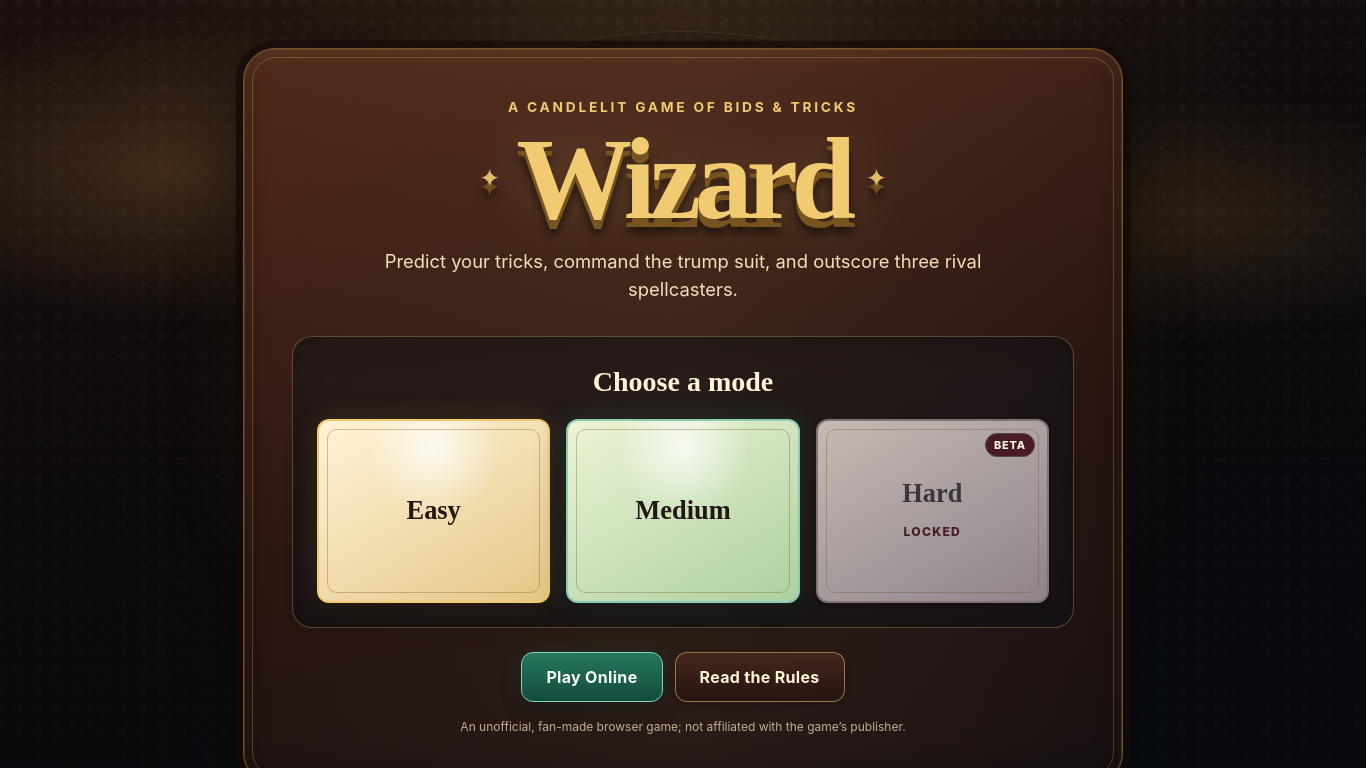
Test: HomeScreen › opens the rules from home, closes with Escape, and restores focus
The width and height of the screenshot is (1366, 768).
Click the button "Read the Rules" at (760, 677), box 674,652 -> 845,702
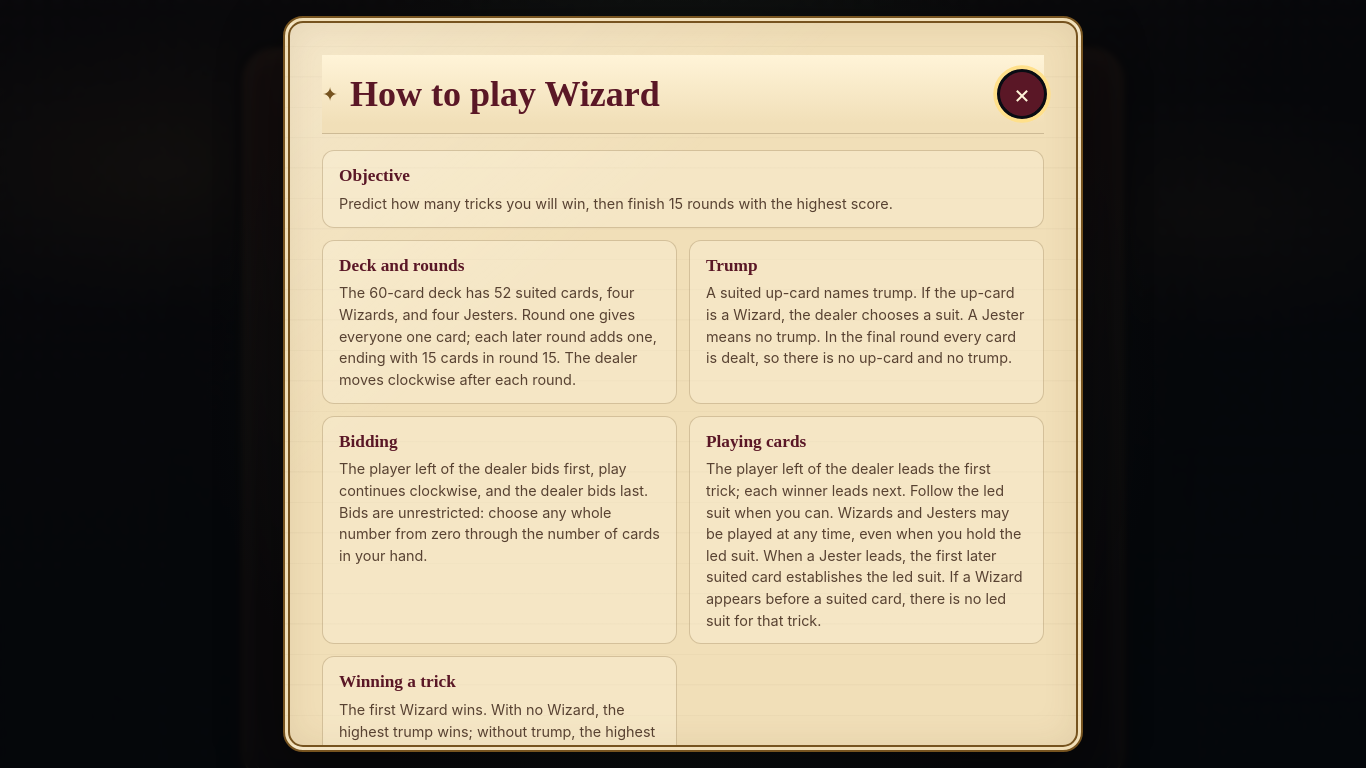
Now the dialog "How to play Wizard" shows "60-card deck", box 339,284 -> 657,388
Press Escape in the dialog "How to play Wizard", box 283,16 -> 1083,752
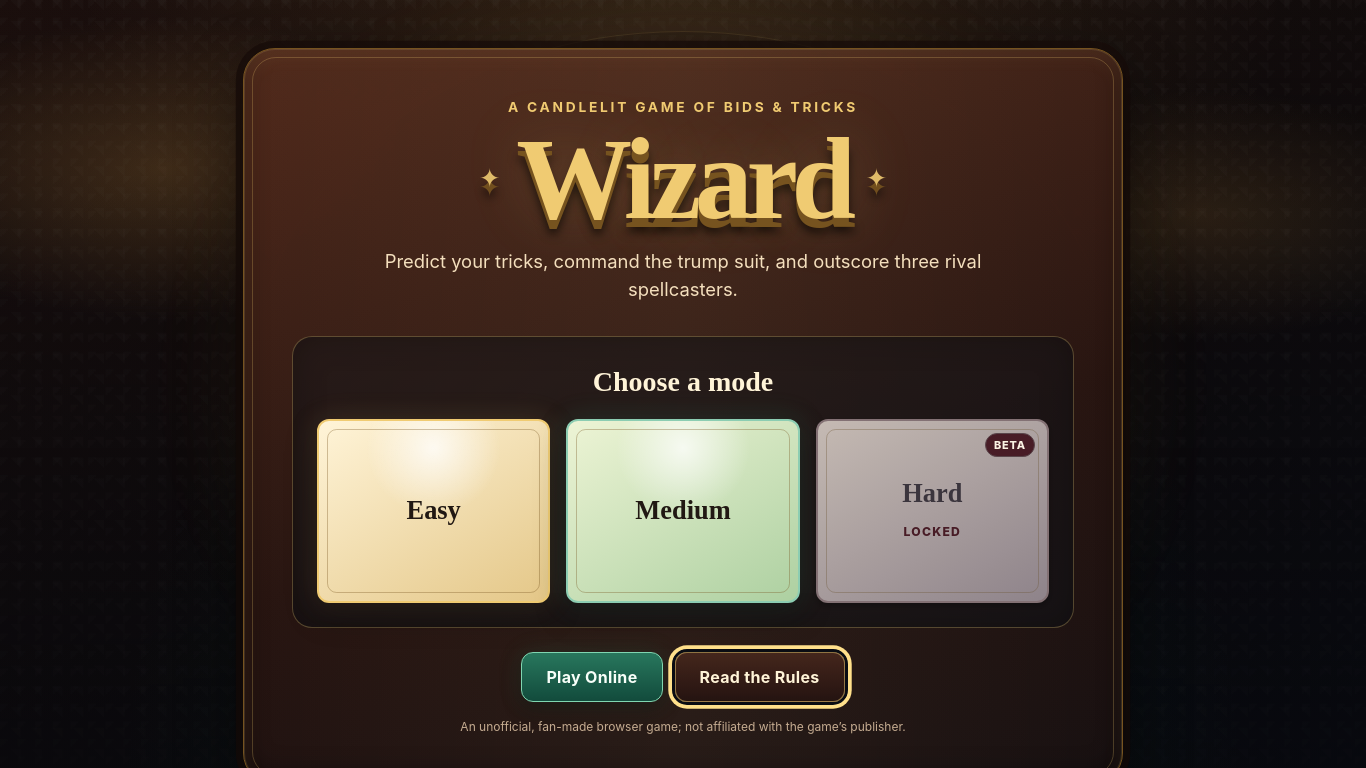
Now the heading "How to play Wizard" is gone
